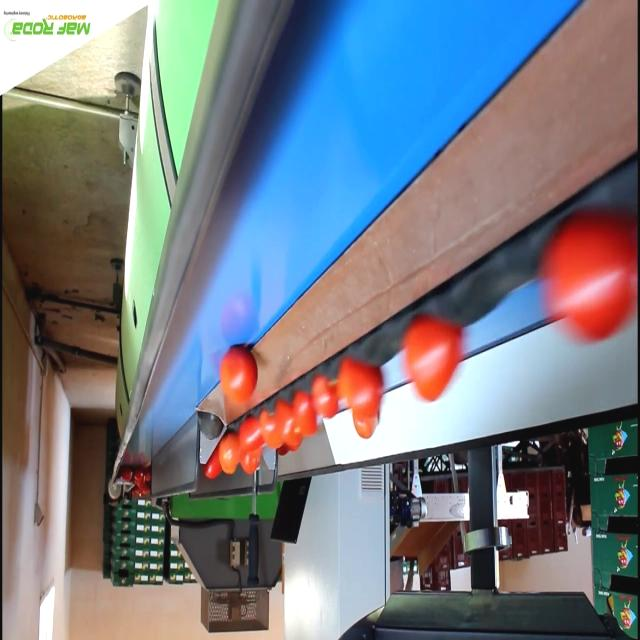Tomato: (544, 215, 635, 332), (404, 306, 462, 404), (338, 360, 382, 412), (218, 352, 256, 402), (310, 378, 342, 420), (276, 402, 304, 448), (261, 410, 289, 450), (296, 394, 320, 439), (239, 422, 269, 451), (220, 439, 240, 475), (353, 414, 378, 442), (239, 448, 260, 472), (206, 449, 222, 479), (134, 469, 144, 483), (122, 469, 132, 479)
